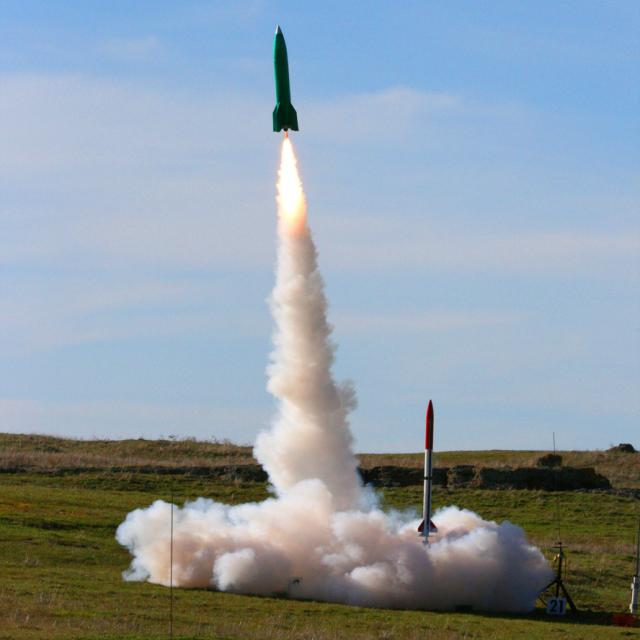rocket: (266, 17, 314, 379)
